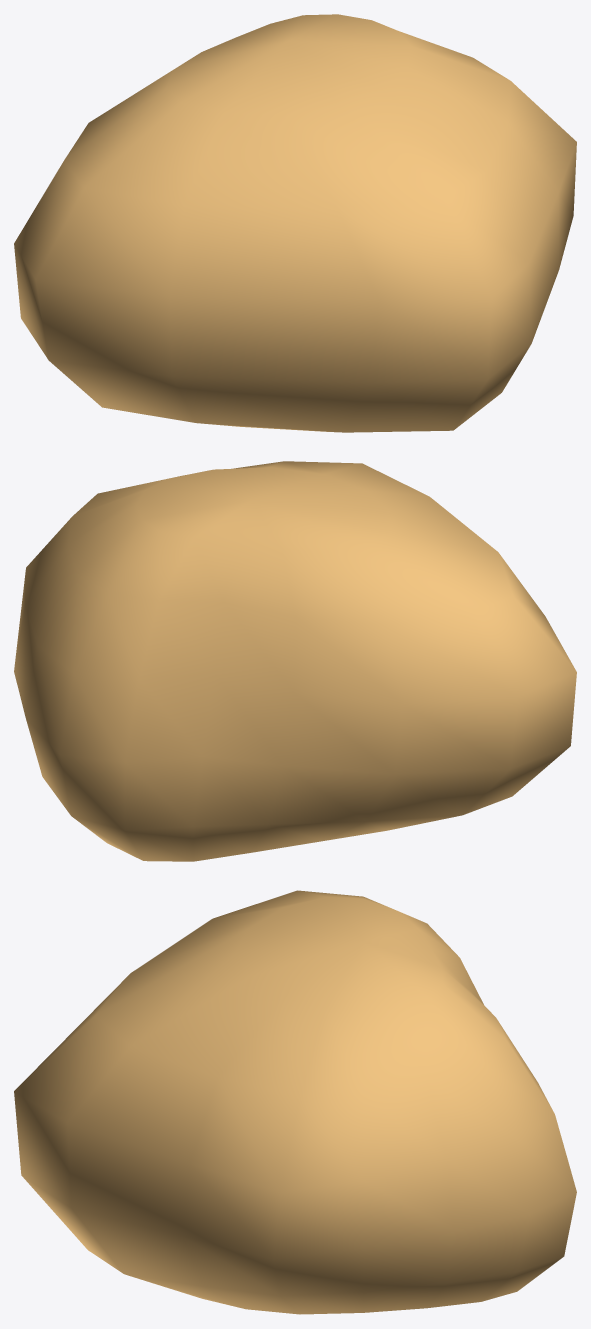
Rendered from bread_raw.glb.
The picture shows the model from 3 angles, top to bottom: view 1: azimuth 30°, elevation 25°; view 2: azimuth 150°, elevation 25°; view 3: azimuth 270°, elevation 25°; orthographic projection. The views are drawn at different scales.
Visible parts, largest first — view 1: bread_raw; view 2: bread_raw; view 3: bread_raw.
Part boxes in pixels (x1,y1,x2,y2): bread_raw: (14, 14, 576, 432); bread_raw: (14, 461, 576, 861); bread_raw: (14, 890, 576, 1314).
Size of the model in its own units: 0.3273 by 0.1915 by 0.2947.
